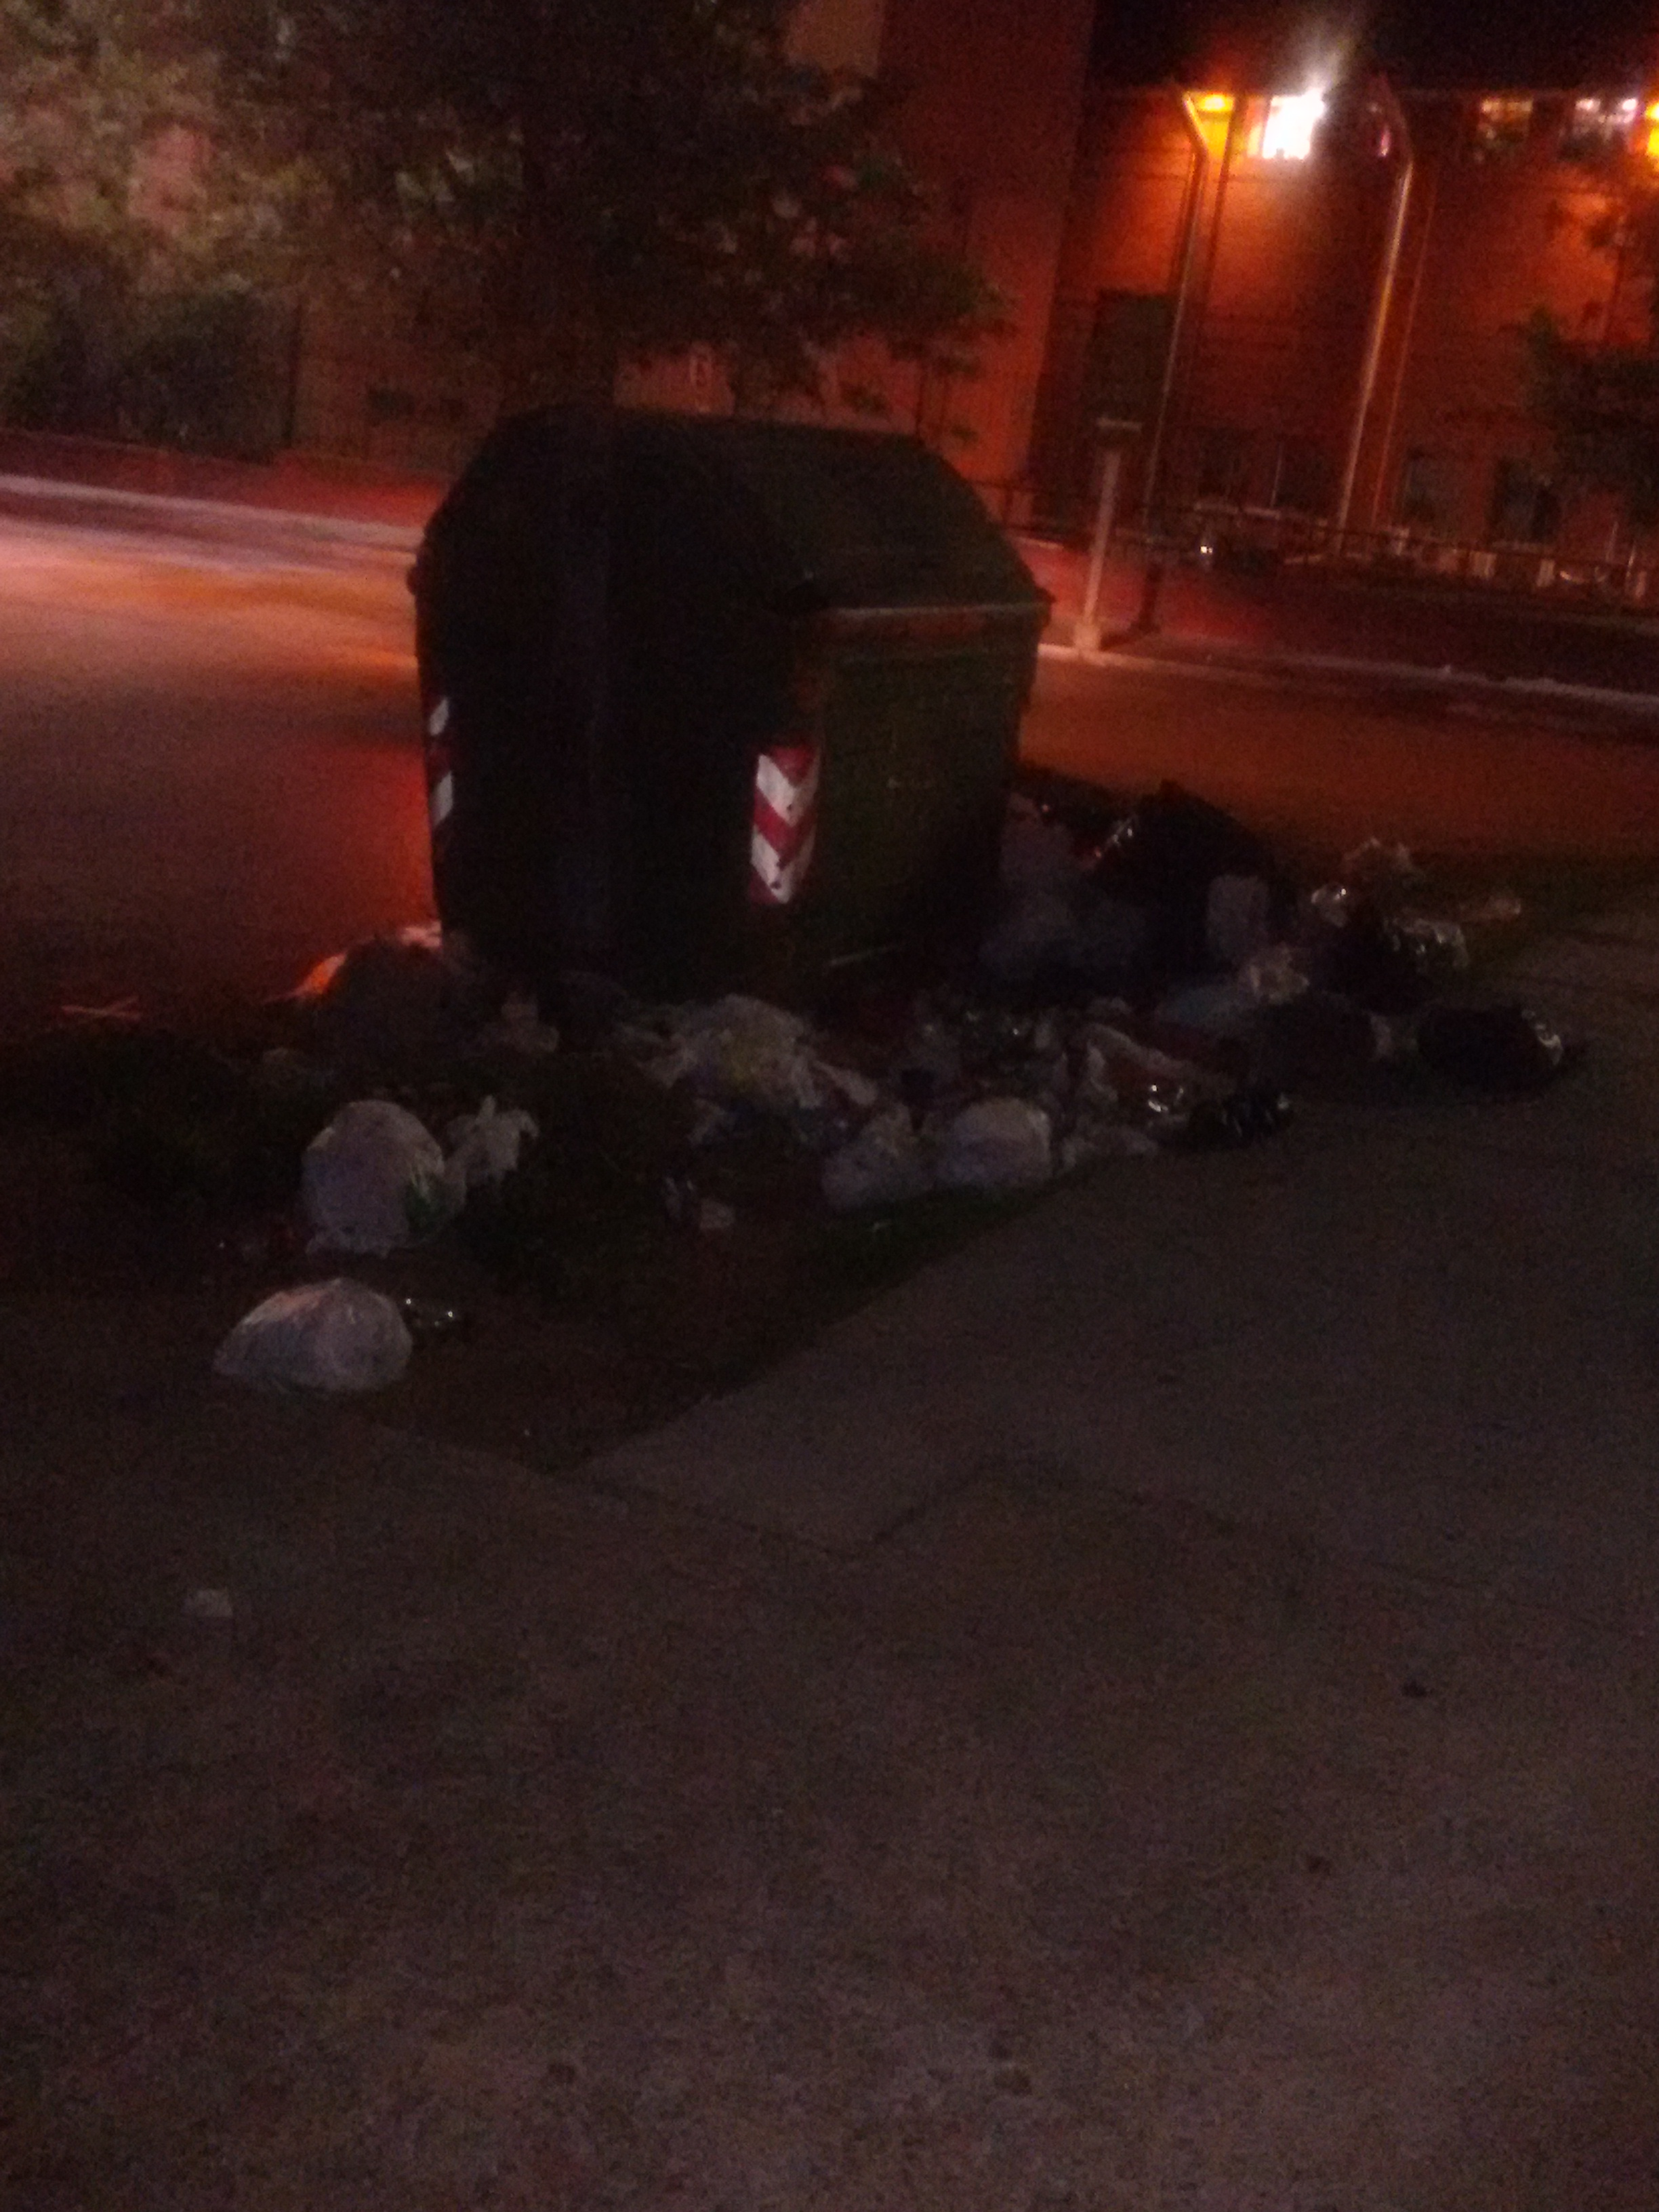container: (403, 395, 1060, 1022)
